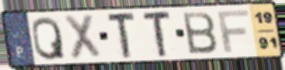B: (180, 10, 219, 55)
F: (216, 9, 251, 54)
Q: (31, 15, 68, 62)
T: (142, 9, 173, 59), (107, 10, 138, 60)
X: (62, 13, 103, 62)
